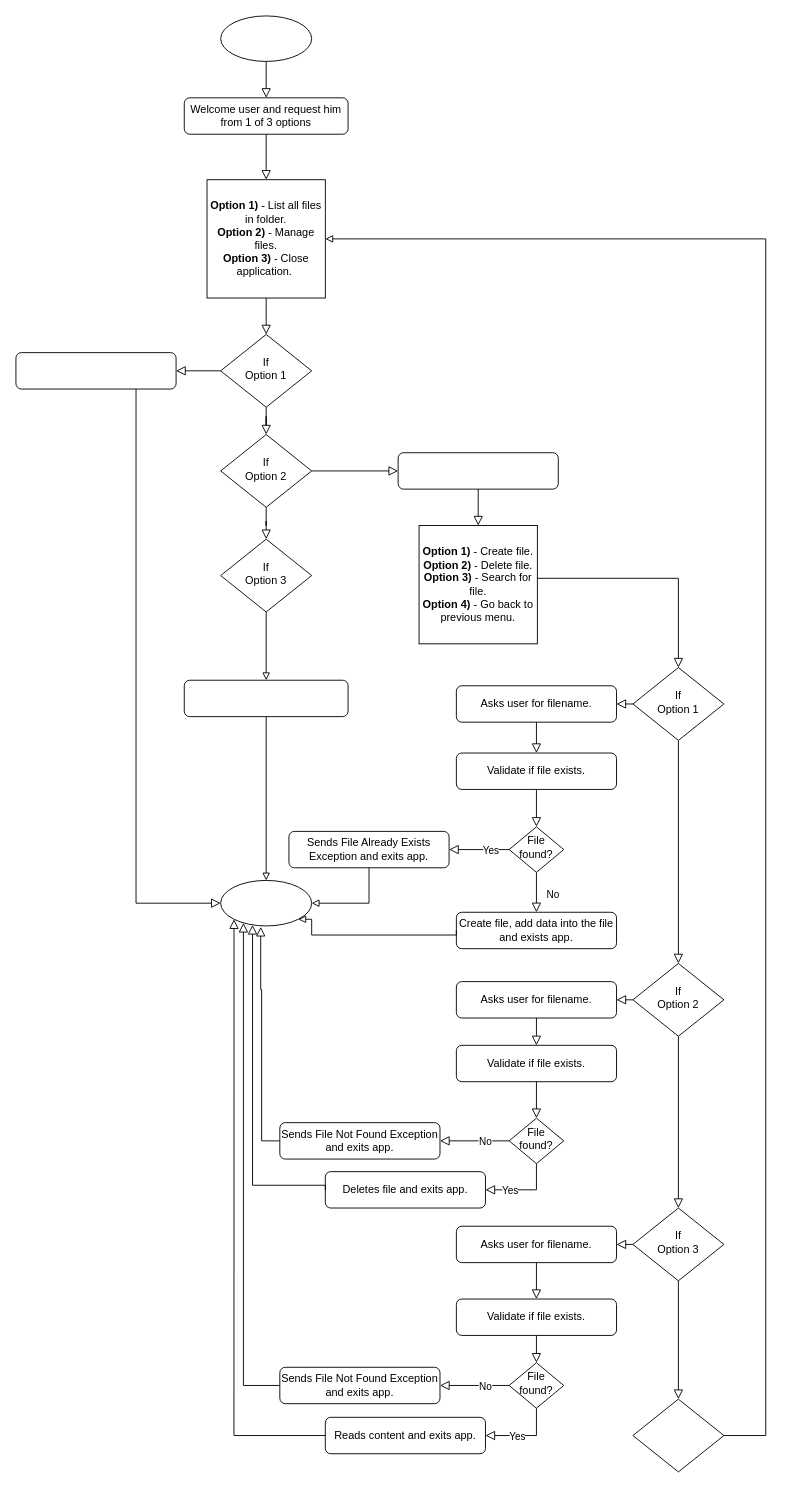
Image size: 789x1488. Some labels were removed from this diagram. Here are the shapes that lost their labels. From the top down, the centre of each, then its label:
At (x=266, y=38): "Start".
At (x=95, y=370): "Scans the directory, list all files by ASC order and exists app.".
At (x=477, y=470): "Ask the user for 1/4 options to manage the files".
At (x=265, y=698): "Thank the user and close application.".
At (x=266, y=903): "Stop".
At (x=678, y=1435): "If Option 4".
